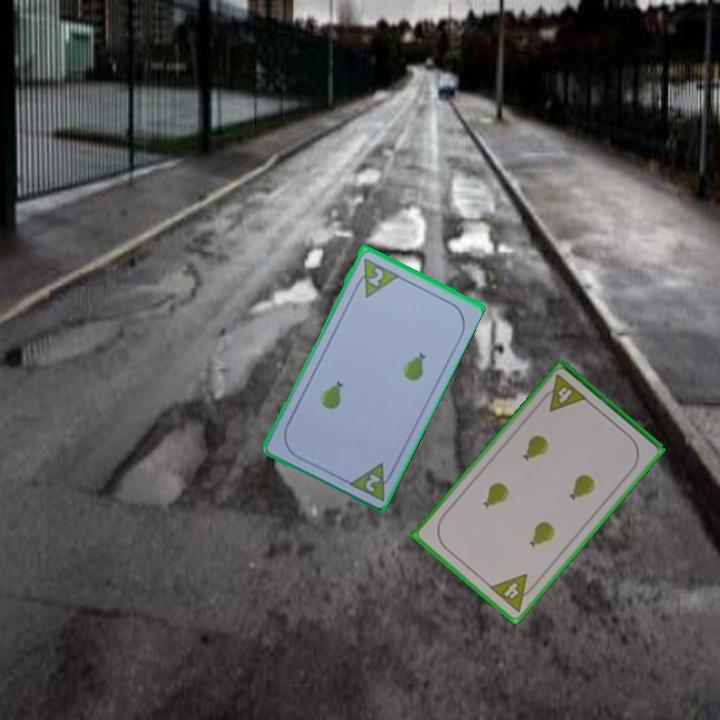2p: (344, 458, 398, 503), (350, 253, 401, 300)
4p: (486, 570, 540, 615), (537, 371, 590, 415)
